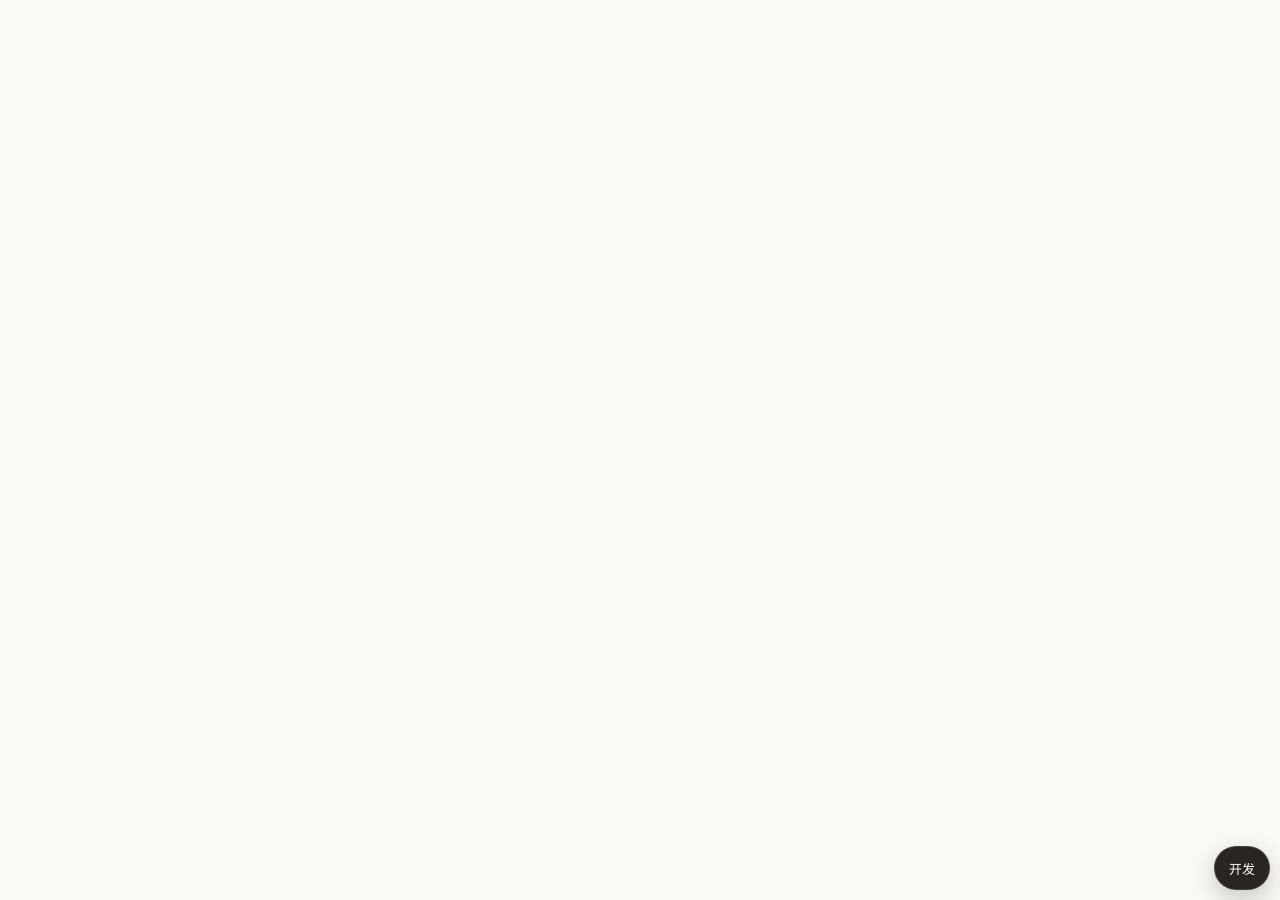
Test: floating dev tools layer › recognizes an archived scenario without marking the current empty journey active
The image size is (1280, 900).
Later steps or results of the test are not shown.
Click the button with aria-label "开发工具": (1242, 868) x1=1214 y1=846 x2=1270 y2=890
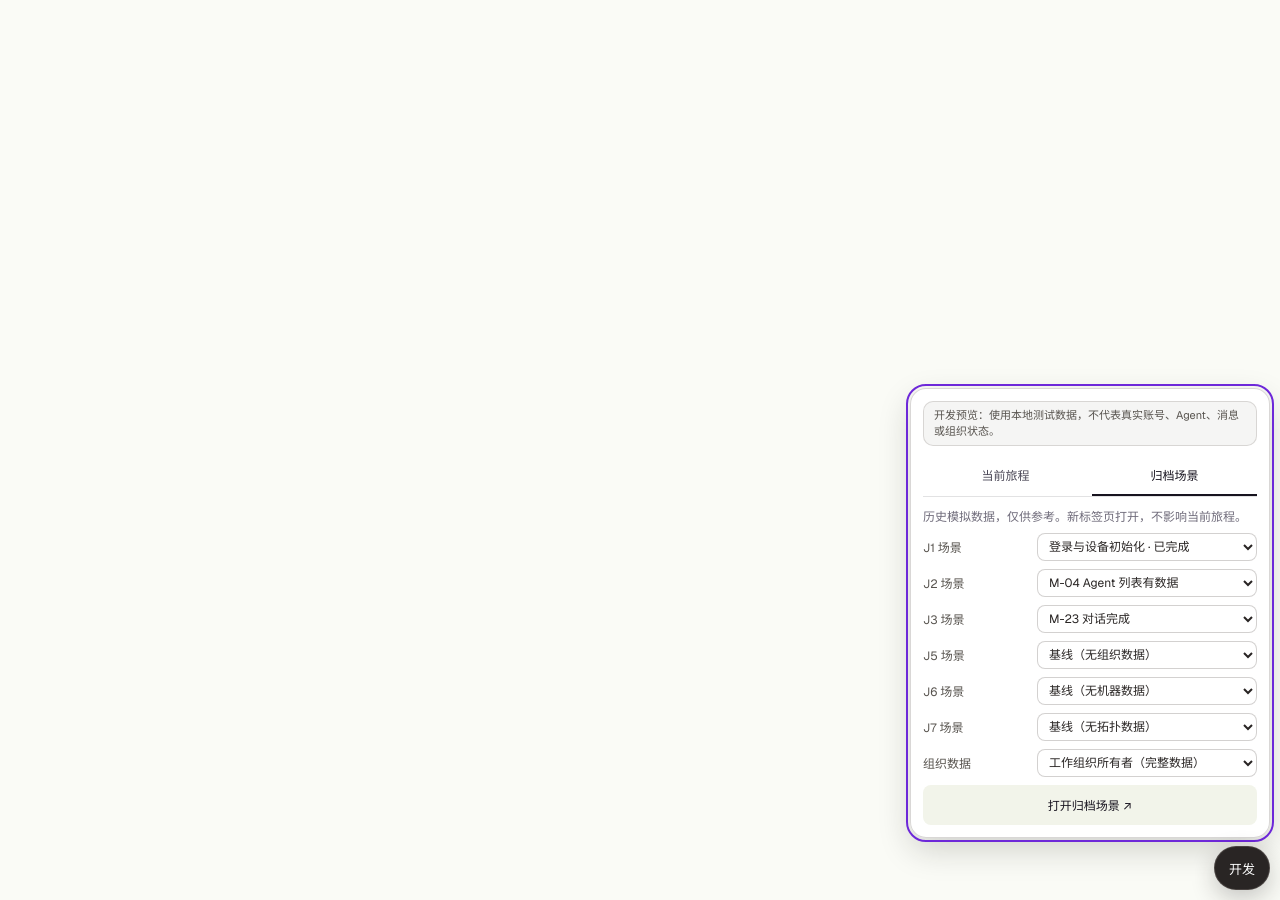
Result: the dropdown labelled "J2 场景" shows "M-04 Agent 列表有数据" at x1=1037 y1=569 x2=1257 y2=597
Result: the dropdown labelled "J3 场景" shows "M-23 对话完成" at x1=1037 y1=605 x2=1257 y2=633
